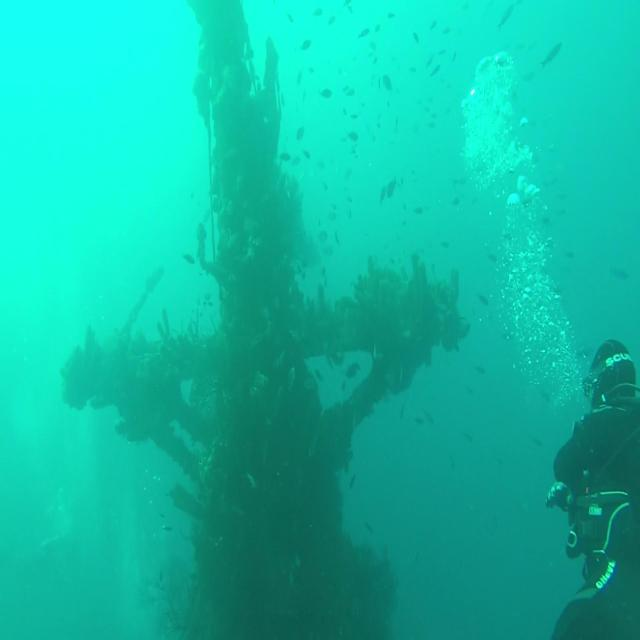human: (545, 337, 639, 638)
